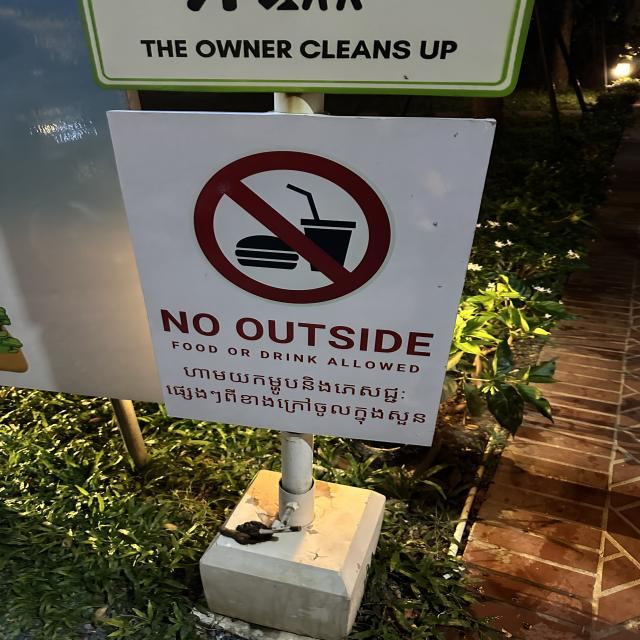Yolov11_80vkh: (159, 380, 434, 433), (170, 359, 421, 409)
